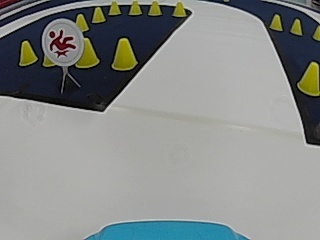cone: (112, 37, 137, 71), (297, 59, 318, 97), (75, 40, 99, 69), (18, 40, 36, 66), (75, 12, 88, 31), (269, 13, 282, 31), (172, 1, 186, 17), (148, 0, 162, 16), (92, 6, 105, 23), (290, 17, 302, 35), (129, 0, 141, 15), (108, 0, 120, 15)
tumble: (46, 23, 80, 59)
